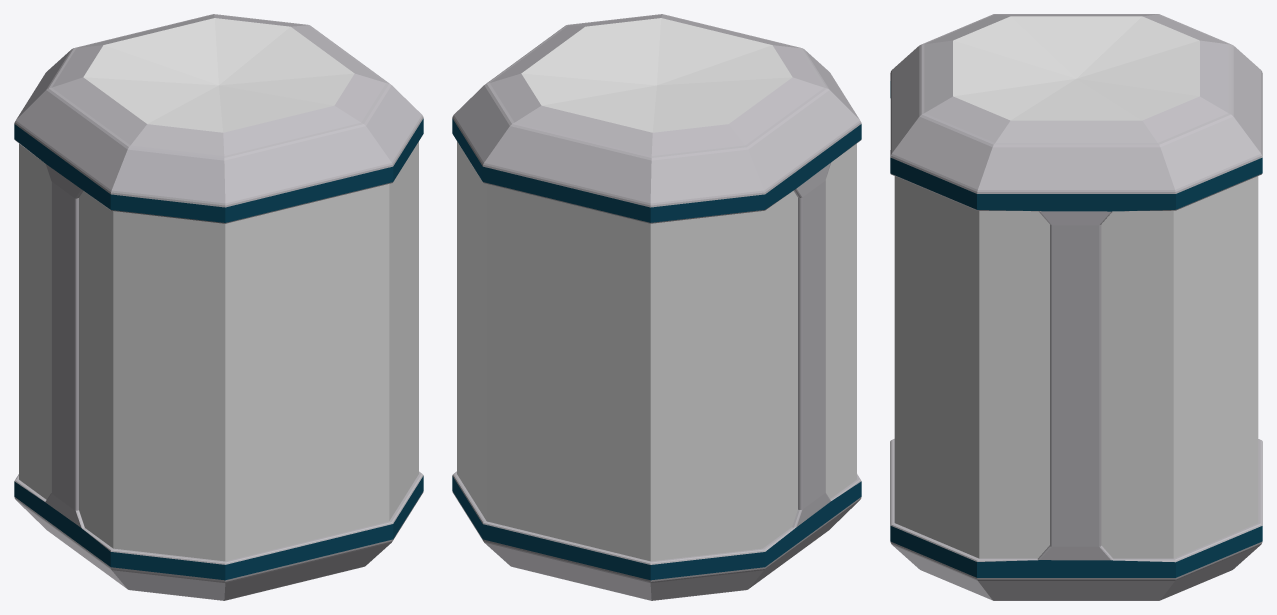
The model's file is Elevator04.fbx.
The picture shows the model from 3 angles, left to right: view 1: azimuth 30°, elevation 25°; view 2: azimuth 150°, elevation 25°; view 3: azimuth 270°, elevation 25°; orthographic projection. The views are drawn at different scales.
Parts seen in each view (by area): view 1: Circle; view 2: Circle; view 3: Circle.
Boxes of the visible parts, x1=… form: Circle: x1=14, y1=14, x2=423, y2=600; Circle: x1=452, y1=14, x2=861, y2=600; Circle: x1=890, y1=14, x2=1262, y2=600.
Size of the model in its own units: 198 by 274 by 198.
